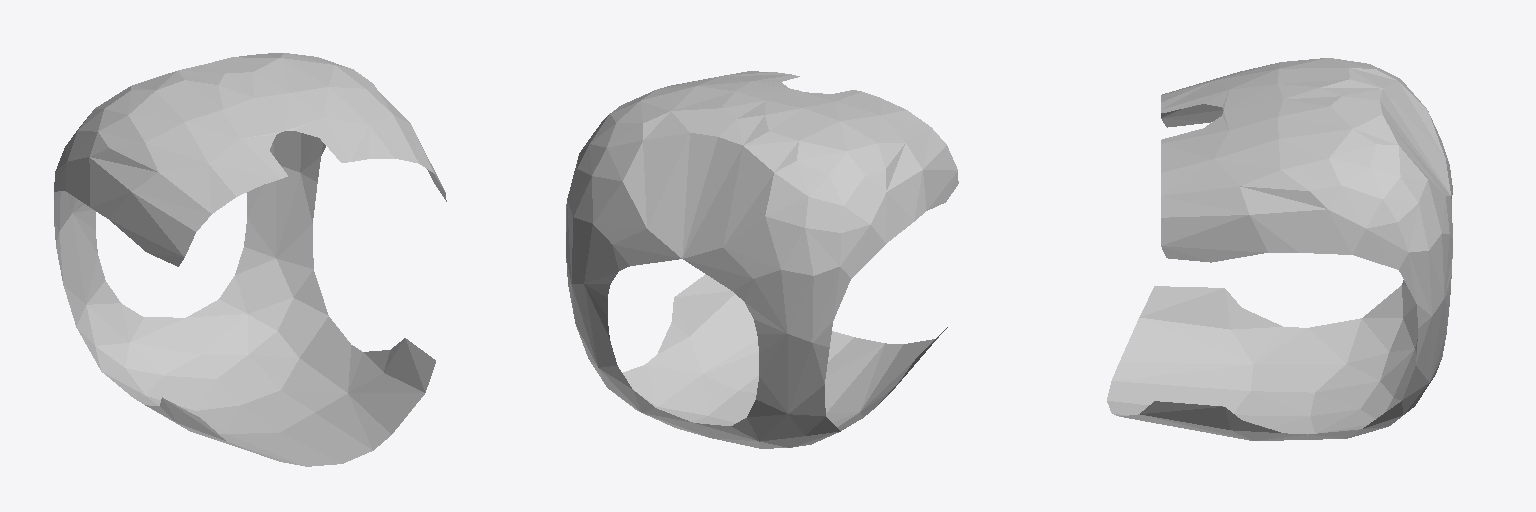
The model's file is icub_simple_collision_chest.obj.
3 renders of one model, left to right at view 1: azimuth 30°, elevation 25°; view 2: azimuth 150°, elevation 25°; view 3: azimuth 270°, elevation 25°, orthographic.
Parts seen in each view (by area): view 1: torso_mesh_torso; view 2: torso_mesh_torso; view 3: torso_mesh_torso.
Part boxes in pixels (x1,y1,x2,y2): torso_mesh_torso: (54, 53, 446, 466); torso_mesh_torso: (566, 71, 958, 448); torso_mesh_torso: (1107, 58, 1452, 440).
Size of the model in its own units: 0.1898 by 0.1868 by 0.1827.